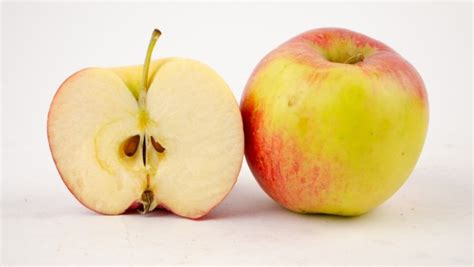apple: (237, 21, 433, 224)
